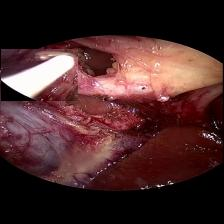Hook: (1, 48, 78, 100)
